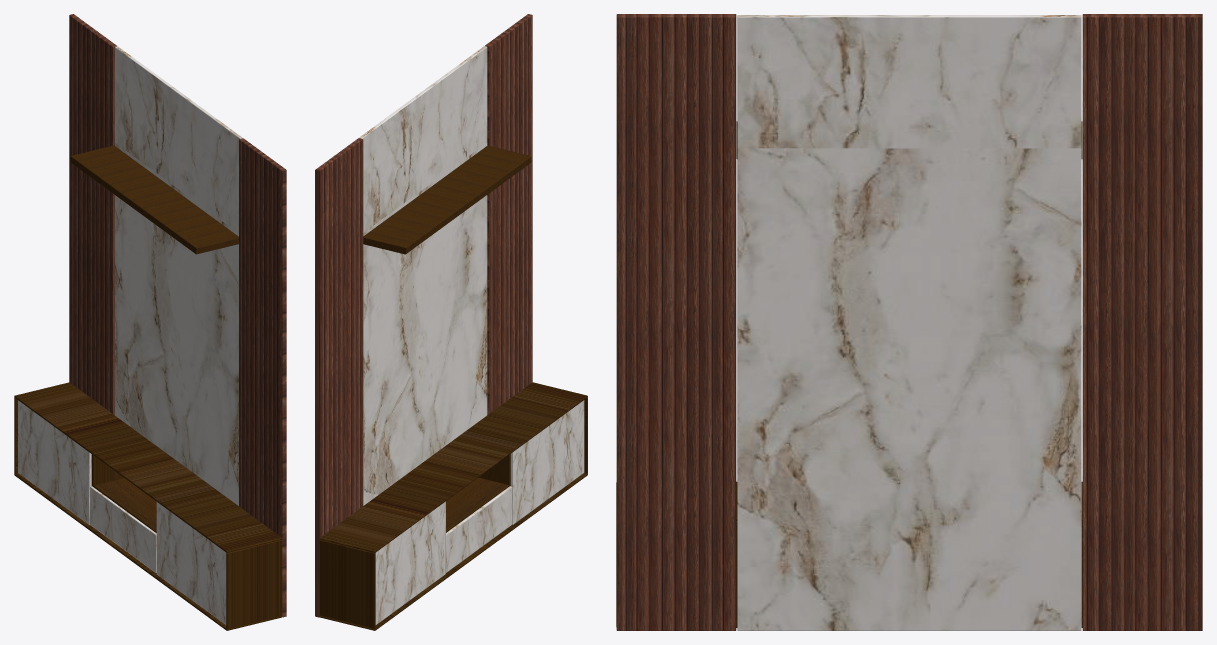
The model's file is marble-cabinet.glb.
3 renders of one model, left to right at view 1: azimuth 30°, elevation 25°; view 2: azimuth 150°, elevation 25°; view 3: azimuth 270°, elevation 25°, orthographic. The views are drawn at different scales.
Visible parts, largest first — view 1: TV_Cabinet0; view 2: TV_Cabinet0; view 3: TV_Cabinet0.
Part boxes in pixels (x1,y1,x2,y2): TV_Cabinet0: (14,14,286,630); TV_Cabinet0: (315,14,587,630); TV_Cabinet0: (616,14,1202,630).
Bounding box in the file's own units: 0.3817 × 2.72 × 2.35.
Materials: 3 (3 with a texture image).
